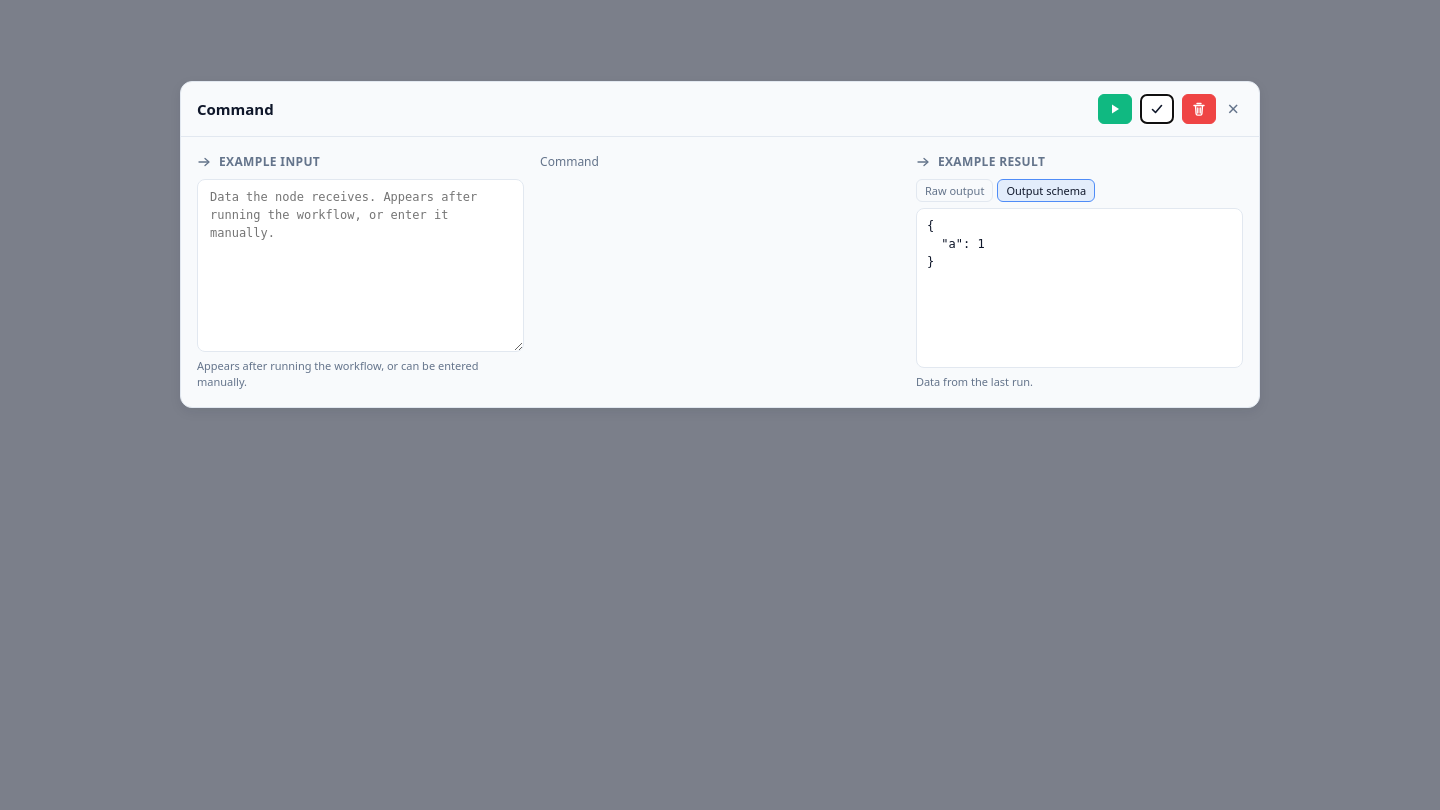
Test: NodeInspector modal › offers raw/schema tabs when the run produced both
Expected: the text "{" is shown, [927, 219, 985, 269]
Click the tab "Raw output": (955, 190) [916, 179, 993, 202]
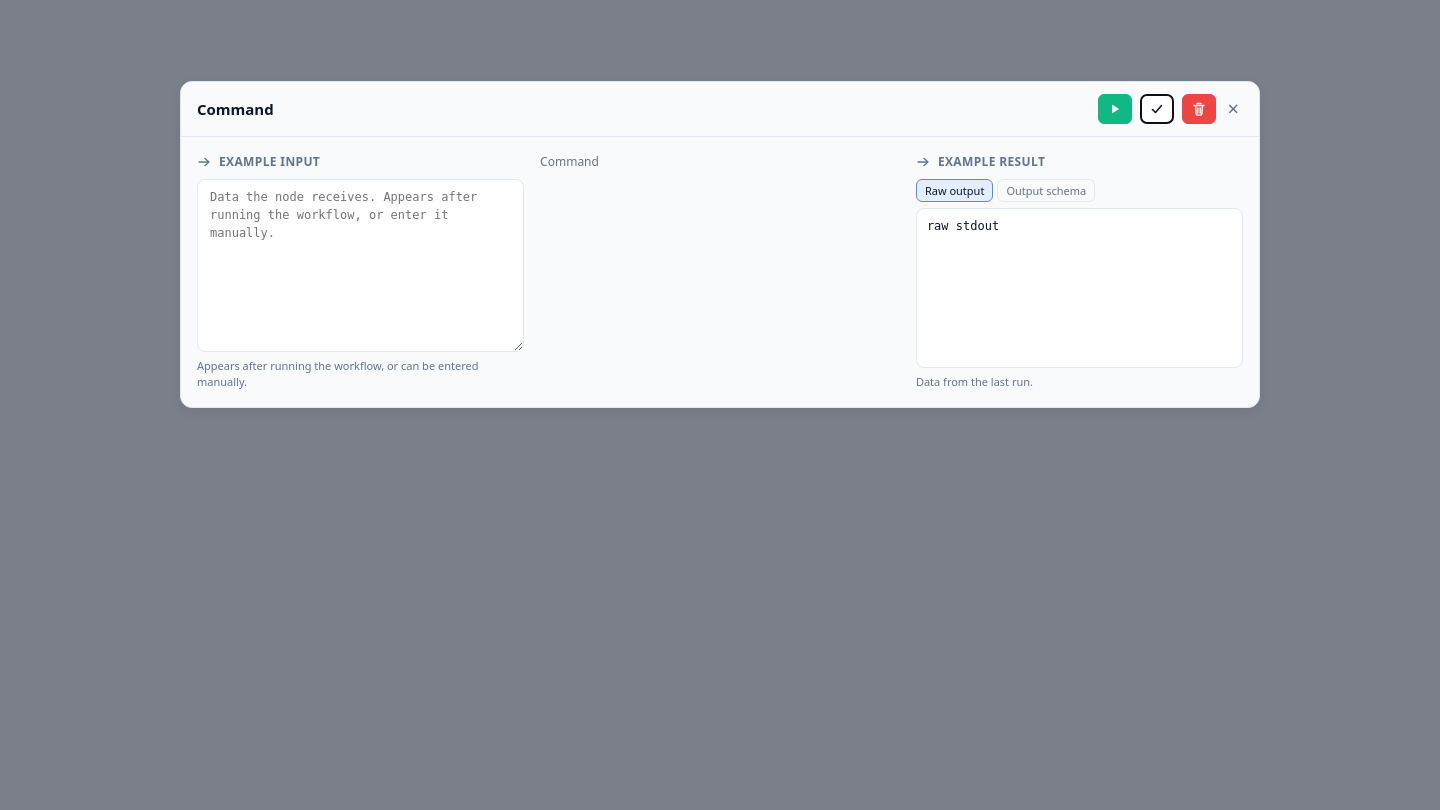
Now the text "raw stdout" is shown, box [916, 208, 1243, 368]
